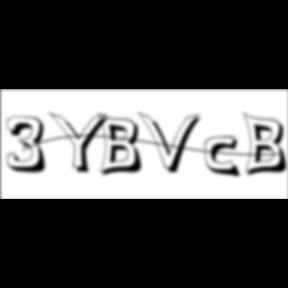3: (7, 116, 53, 176)
B: (98, 111, 148, 179)
V: (138, 110, 206, 176)
Y: (48, 110, 114, 176)
c: (205, 136, 245, 180)
